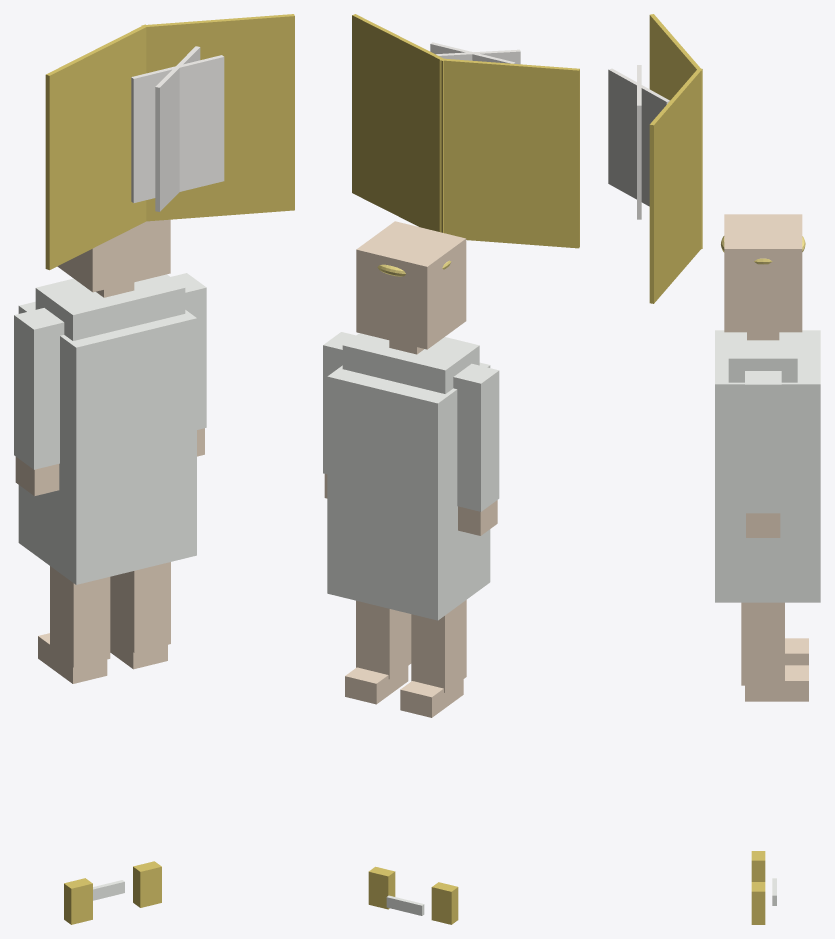
The model's file is nike.glb.
3 views of the same model, side by side, from view 1: azimuth 30°, elevation 25°; view 2: azimuth 150°, elevation 25°; view 3: azimuth 270°, elevation 25° (orthographic). The views are drawn at different scales.
Parts seen in each view (by area): view 1: prop, outfit_tunic_0, arm_L_upper, torso, leg_L_shin, head, leg_R_shin, arm_R_upper, leg_L_foot, outfit_sandals_0, outfit_sandals_1, arm_L_hand (+1 smaller); view 2: prop, outfit_tunic_0, head, arm_L_upper, torso, leg_L_shin, leg_R_shin, leg_L_foot, leg_R_foot, arm_R_upper, outfit_sandals_0, arm_L_hand (+1 smaller); view 3: outfit_tunic_0, prop, head, arm_R_upper, leg_R_shin, torso, leg_R_foot, arm_R_hand, leg_L_foot, outfit_sandals_1, outfit_sandals_0.
Boxes of the visible parts, x1,y1,x2,y2 form: prop: (45,14,294,270); outfit_tunic_0: (18,301,196,584); arm_L_upper: (14,308,64,469); torso: (35,274,185,340); leg_L_shin: (50,566,110,667); head: (57,219,170,292); leg_R_shin: (110,562,170,652); arm_R_upper: (171,273,206,429); leg_L_foot: (38,633,107,683); outfit_sandals_0: (64,878,92,924); outfit_sandals_1: (133,861,161,907); arm_L_hand: (15,457,59,496); prop: (352,14,579,248); outfit_tunic_0: (327,362,490,620); head: (356,221,466,349); arm_L_upper: (453,363,499,511); torso: (342,333,479,393); leg_L_shin: (411,600,466,692); leg_R_shin: (356,600,411,679); leg_L_foot: (400,679,463,717); leg_R_foot: (345,666,408,704); arm_R_upper: (323,332,355,474); outfit_sandals_0: (431,882,458,924); arm_L_hand: (458,500,497,535); outfit_tunic_0: (715,330,820,602); prop: (608,14,702,303); head: (724,214,802,332); arm_R_upper: (745,371,781,513); leg_R_shin: (741,602,784,685); torso: (728,332,797,382); leg_R_foot: (745,665,808,701); arm_R_hand: (746,513,780,537); leg_L_foot: (785,638,808,665); outfit_sandals_1: (751,882,765,924); outfit_sandals_0: (751,851,765,881).
Size of the model in its own units: 1.15 by 4.02 by 0.925.
